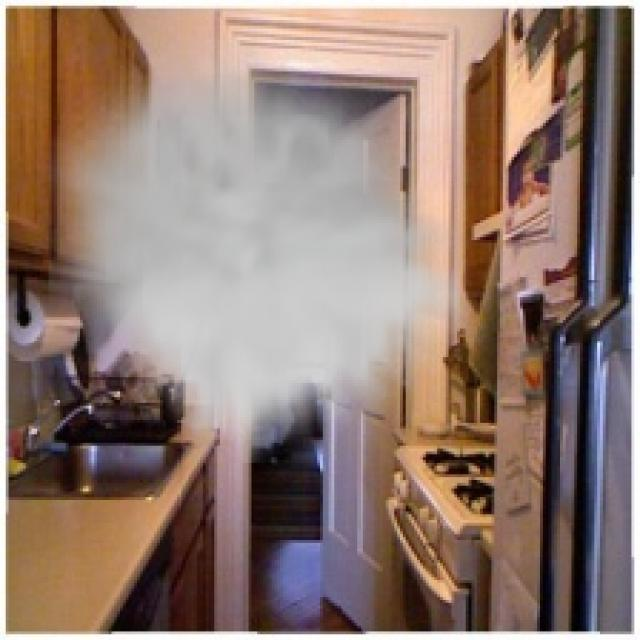Smoke: (48, 37, 460, 463)
